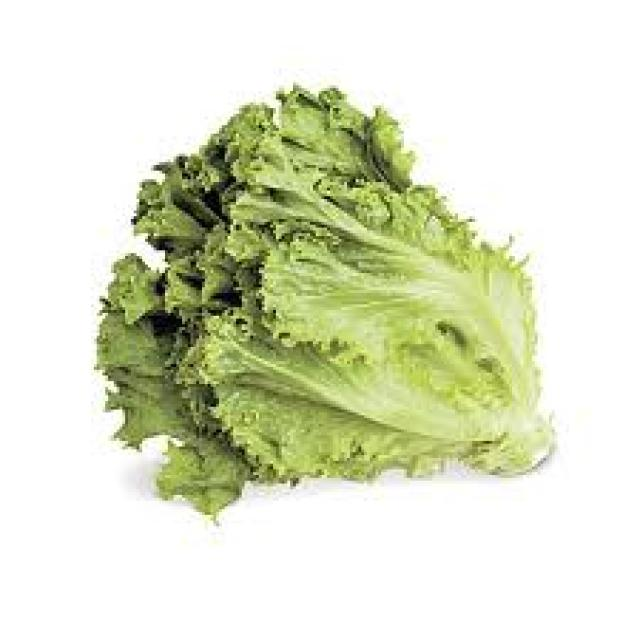cabbage: (86, 69, 574, 524)
